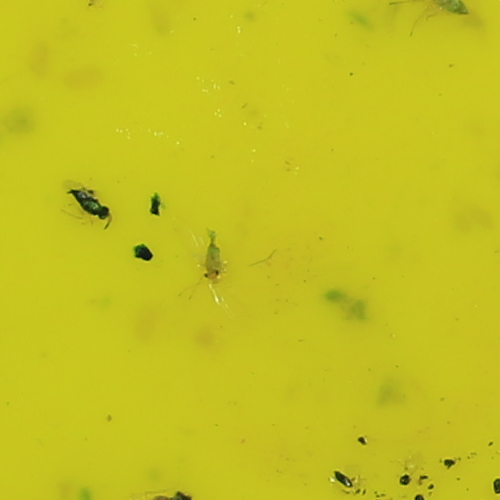psylla: (202, 236, 225, 288)
wasp: (69, 186, 114, 226)
